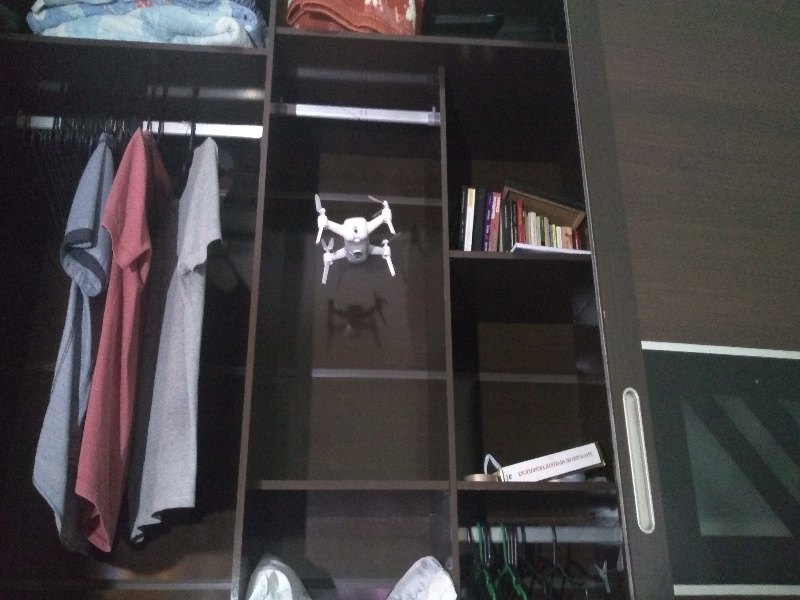drone: (298, 183, 408, 282)
